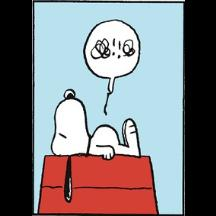snoopy: (50, 88, 140, 204)
